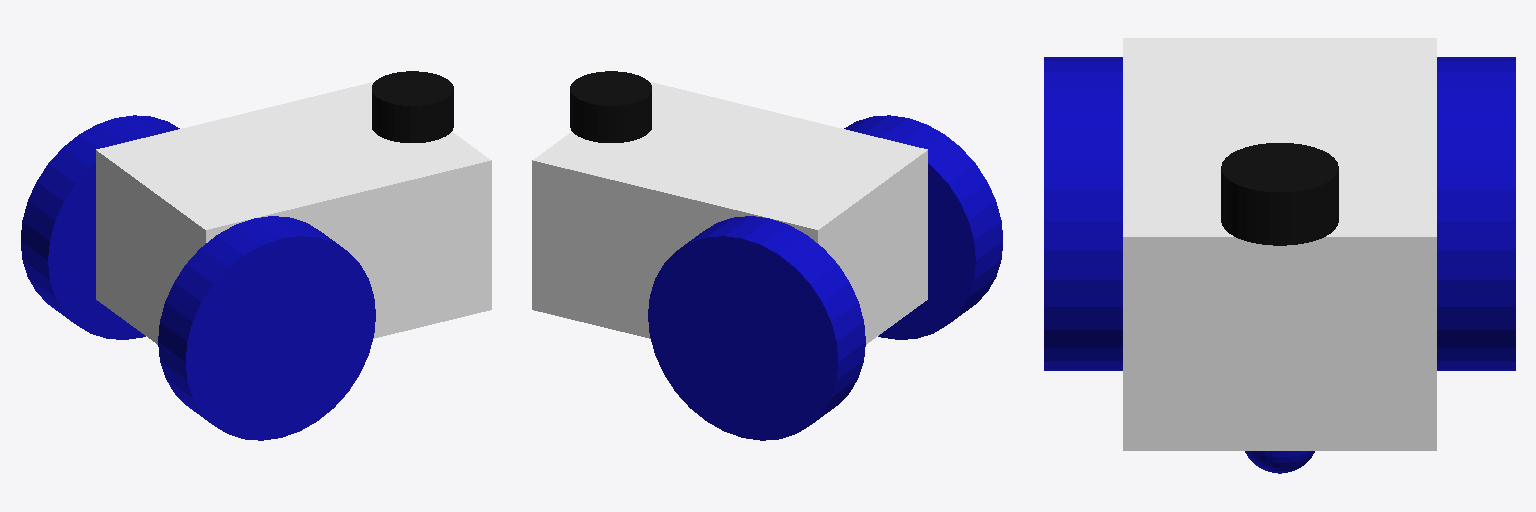
The robot description file, URDF, robot "gz_example_robot":
<robot name="gz_example_robot">

  <!-- LINKS -->
  <link name="base_link">
    <visual>
      <geometry>
        <box size="0.24 0.16 0.12"/>
      </geometry>
      <origin rpy="0 0 0" xyz="0.08 0 0"/>
      <material name="white">
        <color rgba="1 1 1 1"/>
      </material>
    </visual>

    <collision>
      <geometry>
        <box size="0.24 0.16 0.12"/>
      </geometry>
      <origin rpy="0 0 0" xyz="0.08 0 0"/>
    </collision>

    <inertial>
      <mass value="10"/>
      <inertia ixx="0.0033" ixy="0.0" ixz="0.0" iyy="0.006" iyz="0.0" izz="0.007"/>
    </inertial>
  </link>

  <link name="left_wheel">
    <visual>
      <geometry>
        <cylinder length="0.04" radius="0.08" />/>
      </geometry>
      <origin rpy="0 0 0" xyz="0 0 0.02"/>
      <material name="blue">
        <color rgba="0.1 0.1 0.8 1"/>
      </material>
    </visual>

    <collision>
      <geometry>
        <cylinder length="0.04" radius="0.08" />/>
      </geometry>
      <origin rpy="0 0 0" xyz="0 0 0.02"/>
    </collision>

    <inertial>
      <mass value="1"/>
      <inertia ixx="0.002" ixy="0.0" ixz="0.0" iyy="0.002" iyz="0.0" izz="0.0032"/>
    </inertial>
  </link>

  <link name="right_wheel">
    <visual>
      <geometry>
        <cylinder length="0.04" radius="0.08" />/>
      </geometry>
      <origin rpy="0 0 0" xyz="0 0 -0.02"/>
      <material name="blue">
        <color rgba="0.1 0.1 0.8 1"/>
      </material>
    </visual>

    <collision>
      <geometry>
        <cylinder length="0.04" radius="0.08" />/>
      </geometry>
      <origin rpy="0 0 0" xyz="0 0 -0.02"/>
    </collision>

    <inertial>
      <mass value="1"/>
      <inertia ixx="0.002" ixy="0.0" ixz="0.0" iyy="0.002" iyz="0.0" izz="0.0032"/>
    </inertial>
  </link>

  <link name="front_wheel">
    <visual>
      <geometry>
        <sphere radius="0.02" />/>
      </geometry>
      <origin rpy="0 0 0" xyz="0 0 0"/>
      <material name="blue">
        <color rgba="0.1 0.1 0.8 1"/>
      </material>
    </visual>

    <collision>
      <geometry>
        <sphere radius="0.02" />/>
      </geometry>
      <origin rpy="0 0 0" xyz="0 0 0"/>
    </collision>

    <inertial>
      <mass value="0.1"/>
      <inertia ixx="0.00016" ixy="0.0" ixz="0.0" iyy="0.00016" iyz="0.0" izz="0.00016"/>
    </inertial>
  </link>

  <link name="chassis_link">
  <!-- Convenient place to reference sensors to -->
  </link>

  <link name="imu_link">
  <!-- Frame to attach an IMU to -->
  </link> 

  <link name="lidar_link">
    <visual>
      <geometry>
        <cylinder length="0.03" radius="0.03" />/>
      </geometry>
      <origin rpy="0 0 0" xyz="0 0 -0.005"/>
      <material name="black">
        <color rgba="0.1 0.1 0.1 1"/>
      </material>
    </visual>

    <collision>
      <geometry>
        <cylinder length="0.03" radius="0.03" />/>
      </geometry>
      <origin rpy="0 0 0" xyz="0 0 -0.005"/>
    </collision>

    <inertial>
      <mass value="0.1"/>
      <inertia ixx="0.0005" ixy="0.0" ixz="0.0" iyy="0.0005" iyz="0.0" izz="0.00045"/>
    </inertial>
  </link>


  <!-- JOINTS -->
  <joint name="left_wheel_joint" type="continuous">
    <parent link="base_link"/>
    <child link="left_wheel"/>
    <origin xyz="0 0.08 -0.02" rpy="-1.5708 0 0"/>
    <axis xyz="0 0 1"/>
  </joint>

  <joint name="right_wheel_joint" type="continuous">
    <parent link="base_link"/>
    <child link="right_wheel"/>
    <origin xyz="0 -0.08 -0.02" rpy="-1.5708 0 0"/>
    <axis xyz="0 0 1"/>
  </joint>

  <joint name="front_wheel_joint" type="fixed">
    <parent link="base_link"/>
    <child link="front_wheel"/>
    <origin xyz="0.18 0 -0.06" rpy="0 0 0"/>
  </joint>

  <joint name="chassis_joint" type="fixed">
    <parent link="base_link"/>
    <child link="chassis_link"/>
    <origin xyz="0.08 0 0.06" rpy="0 0 0"/>
  </joint>

  <joint name="imu_joint" type="fixed">
    <parent link="base_link"/>
    <child link="imu_link"/>
    <origin xyz="0 0 0" rpy="0 0 0"/>
  </joint>

  <joint name="lidar_joint" type="fixed">
    <parent link="chassis_link"/>
    <child link="lidar_link"/>
    <origin xyz="0.1 0 0.02" rpy="0 0 0"/>
  </joint>


  <!-- GAZEBO PLUGINS -->
  <gazebo>
    <plugin filename="ignition-gazebo-diff-drive-system" name="ignition::gazebo::systems::DiffDrive">
      <!-- wheels -->
      <left_joint>left_wheel_joint</left_joint>
      <right_joint>right_wheel_joint</right_joint>

      <!-- kinematics -->
      <wheel_separation>0.16</wheel_separation>
      <wheel_diameter>0.16</wheel_diameter>

      <!-- limits -->	
      <max_wheel_torque>10</max_wheel_torque>
      <max_wheel_acceleration>0.5</max_wheel_acceleration>

      <!-- TF options -->
      <publish_odom>true</publish_odom>
      <publish_wheel_tf>true</publish_wheel_tf>
      <publish_odom_tf>true</publish_odom_tf>

      <!-- odometry -->      
      <odometry_frame>odom</odometry_frame>
      <odom_topic>/model/gz_example_robot/odometry</odom_topic>
      
      <!-- cmd velocity -->
      <robot_base_frame>base_link</robot_base_frame>
      <topic>/model/gz_example_robot/cmd_vel</topic>
      
    </plugin>
  </gazebo>

  <gazebo>
      <plugin
        filename="ignition-gazebo-joint-state-publisher-system" name="ignition::gazebo::systems::JointStatePublisher">
      </plugin>
  </gazebo>

  <gazebo>
      <plugin
        filename="ignition-gazebo-pose-publisher-system" name="ignition::gazebo::systems::PosePublisher">
        <publish_link_pose>true</publish_link_pose>
        <use_pose_vector_msg>true</use_pose_vector_msg>
        <static_publisher>true</static_publisher>
        <static_update_frequency>1</static_update_frequency>
      </plugin>
  </gazebo>

  <gazebo>
      <plugin
        filename="ignition-gazebo-odometry-publisher-system" name="ignition::gazebo::systems::OdometryPublisher">
        <odom_frame>vehicle/odom</odom_frame>
        <robot_base_frame>vehicle</robot_base_frame>
      </plugin>
  </gazebo>

  <gazebo>
    <sensor name="lidar" type="ray">
      <plugin filename="libignition-gazebo-imu-system.so" name="ignition::gazebo::systems::Imu">
        <ros>
            <remapping>~/out:=scan</remapping>
        </ros>
        <output_type>sensor_msgs/LaserScan</output_type>
        <frame_name>lidar_link</frame_name>
      </plugin>
      <pose>0.215 0 0.215 0 0 0</pose>
      <always_on>true</always_on>
      <visualize>true</visualize>
      <update_rate>5</update_rate>
      <ray>
        <scan>
          <horizontal>
            <samples>360</samples>
            <resolution>1.00000</resolution>
            <min_angle>0.000000</min_angle>
            <max_angle>6.280000</max_angle>
          </horizontal>
        </scan>
        <range>
          <min>0.120000</min>
          <max>3.5</max>
          <resolution>0.015000</resolution>
        </range>
        <noise>
          <type>gaussian</type>
          <mean>0.0</mean>
          <stddev>0.01</stddev>
        </noise>
      </ray>
    </sensor>
  </gazebo>

  <gazebo reference="imu_link">
    <sensor name="imu_sensor" type="imu">
      <plugin filename="libignition-gazebo-imu-system.so" name="ignition::gazebo::systems::Imu">
        <ros>
          <namespace></namespace>
          <remapping>~/out:=imu</remapping>
        </ros>
        <initial_orientation_as_reference>false</initial_orientation_as_reference>
      </plugin>
      <always_on>true</always_on>
      <update_rate>100</update_rate>
      <visualize>true</visualize>
     <imu>
     	<angular_velocity>
     	  <x>
     	    <noise type="gaussian">
              <mean>0.0</mean>
              <stddev>2e-4</stddev>
              <bias_mean>0.0000075</bias_mean>
              <bias_stddev>0.0000008</bias_stddev>
            </noise>
          </x>
          <y>
            <noise type="gaussian">
              <mean>0.0</mean>
              <stddev>2e-4</stddev>
              <bias_mean>0.0000075</bias_mean>
              <bias_stddev>0.0000008</bias_stddev>
            </noise>
          </y>
          <z>
            <noise type="gaussian">
              <mean>0.0</mean>
              <stddev>2e-4</stddev>
              <bias_mean>0.0000075</bias_mean>
              <bias_stddev>0.0000008</bias_stddev>
            </noise>
          </z>
        </angular_velocity>
        <linear_acceleration>
          <x>
            <noise type="gaussian">
              <mean>0.0</mean>
              <stddev>1.7e-2</stddev>
              <bias_mean>0.1</bias_mean>
              <bias_stddev>0.001</bias_stddev>
            </noise>
          </x>
          <y>
            <noise type="gaussian">
              <mean>0.0</mean>
              <stddev>1.7e-2</stddev>
              <bias_mean>0.1</bias_mean>
              <bias_stddev>0.001</bias_stddev>
            </noise>
          </y>
          <z>
            <noise type="gaussian">
              <mean>0.0</mean>
              <stddev>1.7e-2</stddev>
              <bias_mean>0.1</bias_mean>
              <bias_stddev>0.001</bias_stddev>
            </noise>
          </z>
        </linear_acceleration>
      </imu>
    </sensor>
  </gazebo>


<gazebo reference="front_wheel_wheel">
    <mu1 value="0.001"/>
    <mu2 value="0.001"/>
</gazebo>
 
</robot>

--- What the picture shows (computed from the rendered views, not written in the file) ---
The picture shows the robot from 3 angles, left to right: view 1: azimuth 30°, elevation 25°; view 2: azimuth 150°, elevation 25°; view 3: azimuth 270°, elevation 25°; orthographic projection.
Model gz_example_robot with 7 links and 6 joints (2 continuous, 4 fixed), rooted at base_link, posed every joint at zero.
Links seen in each view (by area): view 1: base_link, right_wheel, left_wheel, lidar_link; view 2: base_link, left_wheel, right_wheel, lidar_link; view 3: base_link, left_wheel, right_wheel, lidar_link, front_wheel.
Link boxes in pixels (left/top/right/bottom): base_link: left=96, top=82, right=491, bottom=344; right_wheel: left=158, top=216, right=375, bottom=440; left_wheel: left=21, top=115, right=179, bottom=339; lidar_link: left=372, top=71, right=453, bottom=142; base_link: left=532, top=82, right=927, bottom=344; left_wheel: left=648, top=216, right=865, bottom=440; right_wheel: left=844, top=115, right=1002, bottom=339; lidar_link: left=570, top=71, right=651, bottom=142; base_link: left=1123, top=38, right=1436, bottom=450; left_wheel: left=1437, top=57, right=1515, bottom=370; right_wheel: left=1044, top=57, right=1122, bottom=370; lidar_link: left=1221, top=143, right=1338, bottom=245; front_wheel: left=1245, top=451, right=1314, bottom=473.
Bounding box of the posed robot: 0.29 × 0.24 × 0.19 m (x, y, z).
Geometry: primitives only (box / cylinder / sphere), no mesh files.
